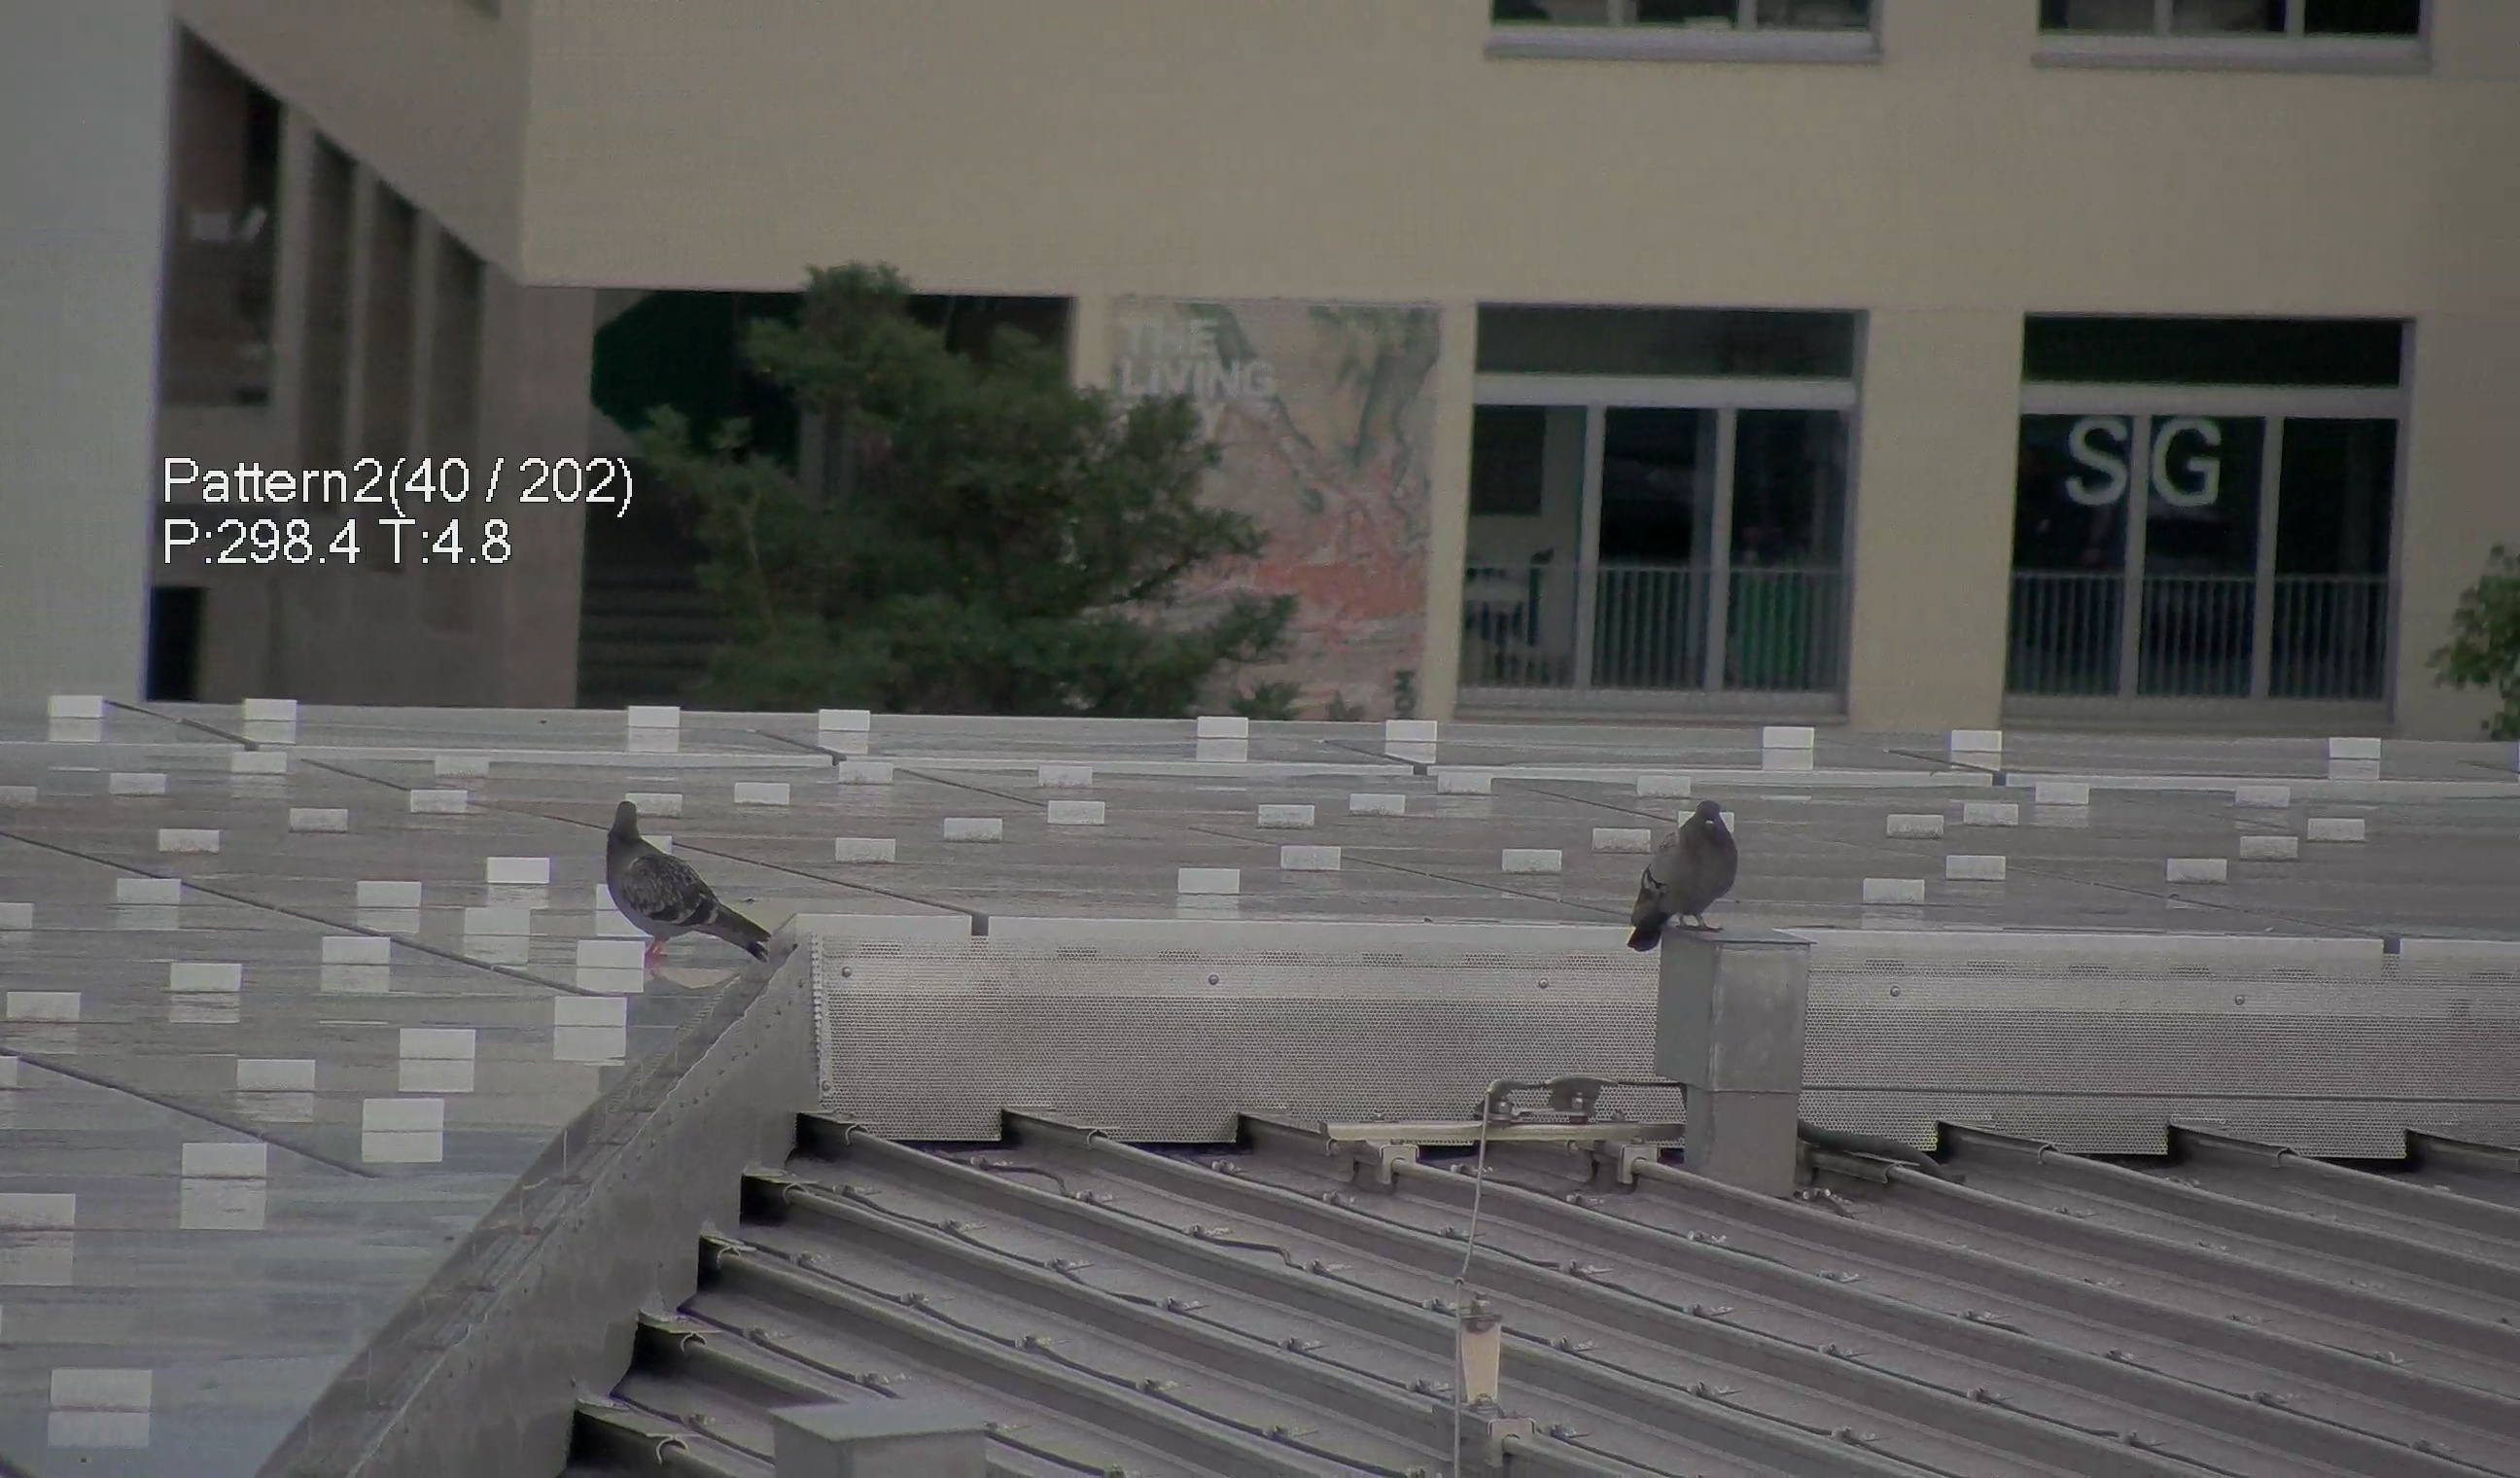Pigeon: (577, 790, 768, 975), (1625, 790, 1755, 962)
